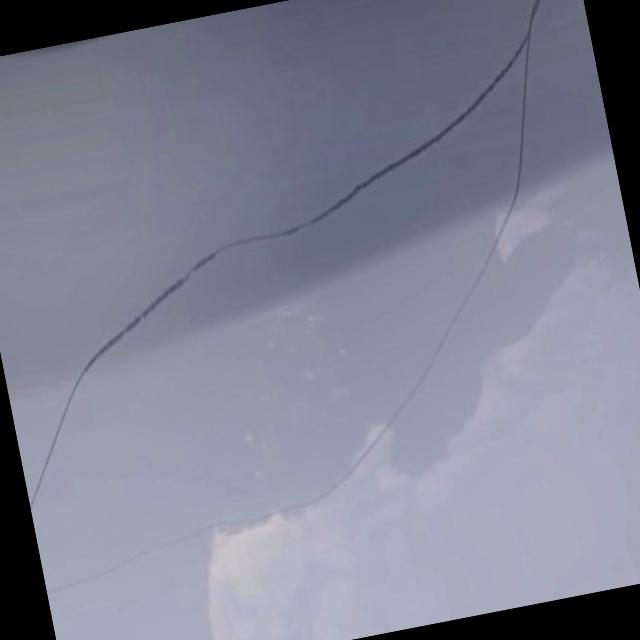crack: (126, 248, 573, 633), (0, 108, 493, 384)
